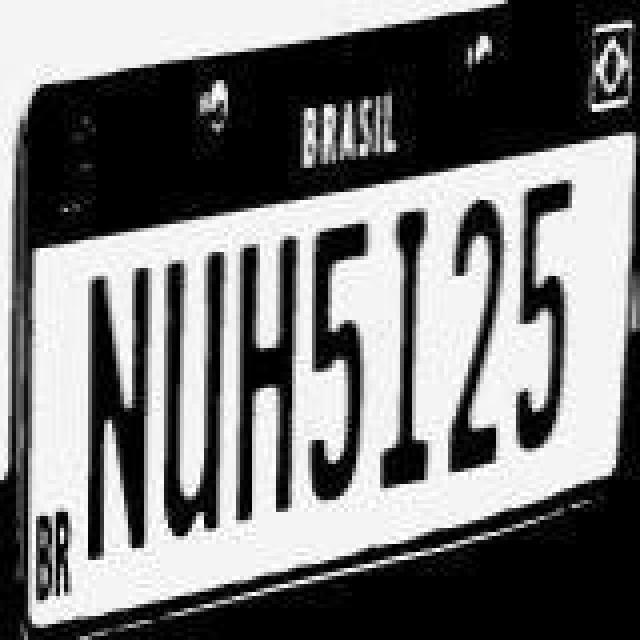2: (442, 174, 514, 458)
5: (308, 198, 376, 482), (518, 162, 582, 430)
H: (234, 216, 306, 504)
I: (378, 184, 442, 472)
N: (86, 250, 158, 558)
U: (158, 230, 230, 530)
